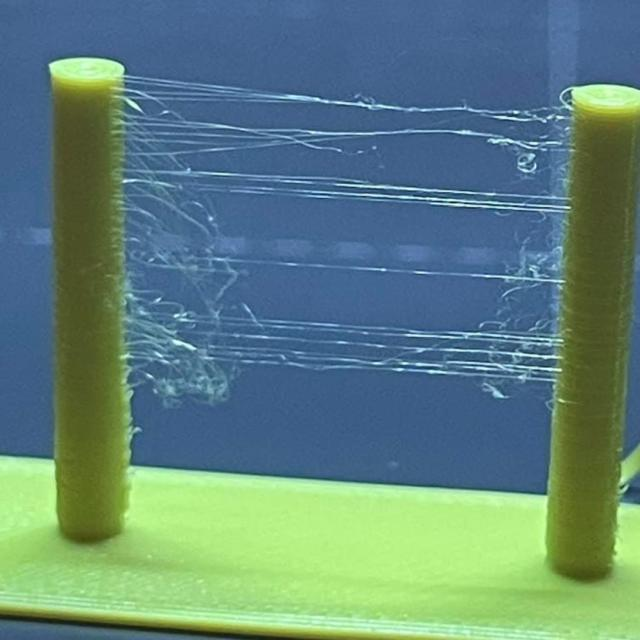stringing: (124, 77, 563, 222)
